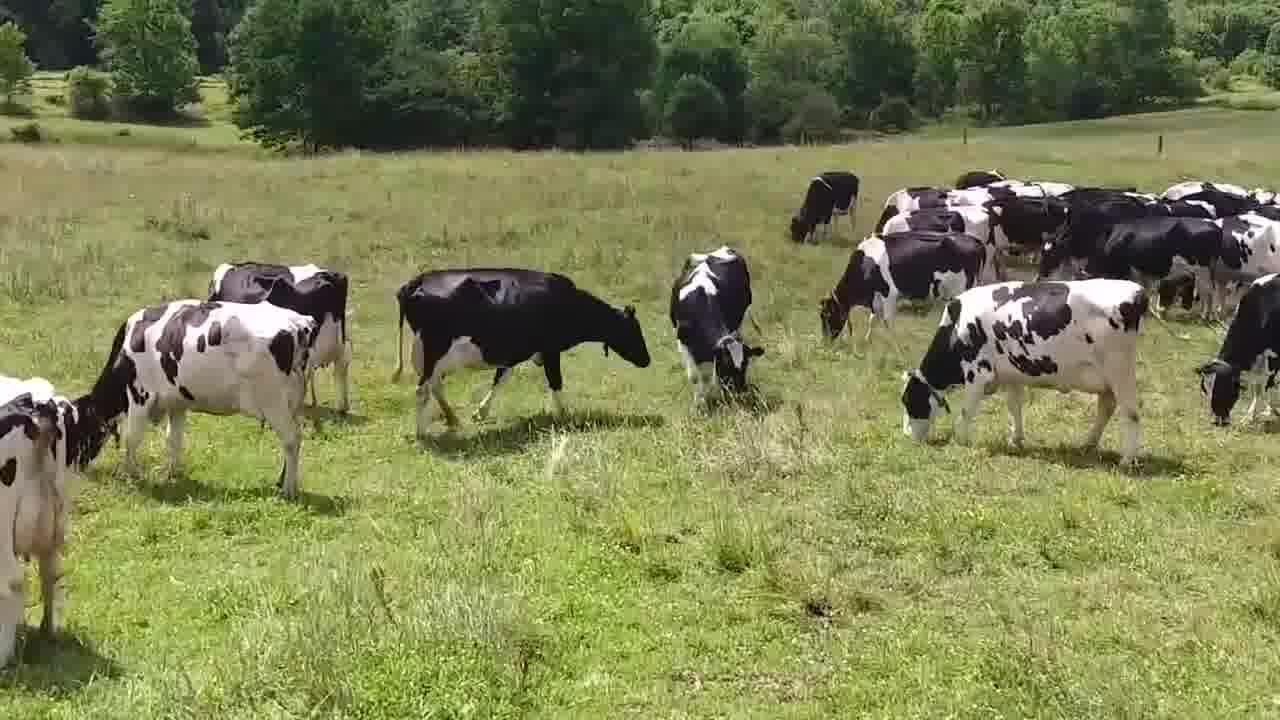cow: (890, 270, 1158, 473), (70, 302, 323, 509), (387, 264, 659, 442), (198, 250, 357, 421), (0, 362, 80, 686), (814, 222, 995, 345), (1033, 212, 1224, 324), (667, 243, 769, 420), (1190, 265, 1280, 434), (786, 167, 868, 251)
